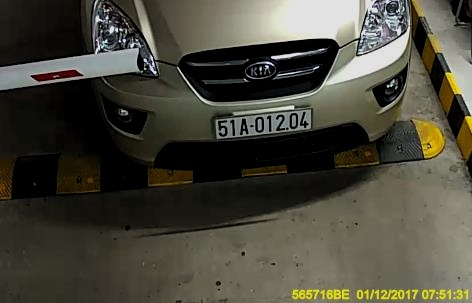plate: (215, 111, 315, 141)
